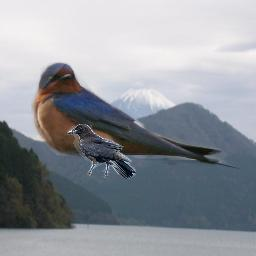Crow: (67, 124, 136, 179)
Swallow: (31, 62, 243, 171)
